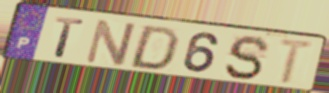6: (182, 31, 221, 75)
D: (126, 24, 183, 72)
N: (82, 17, 139, 68)
S: (222, 34, 272, 82)
T: (276, 36, 319, 86), (53, 15, 86, 60)
